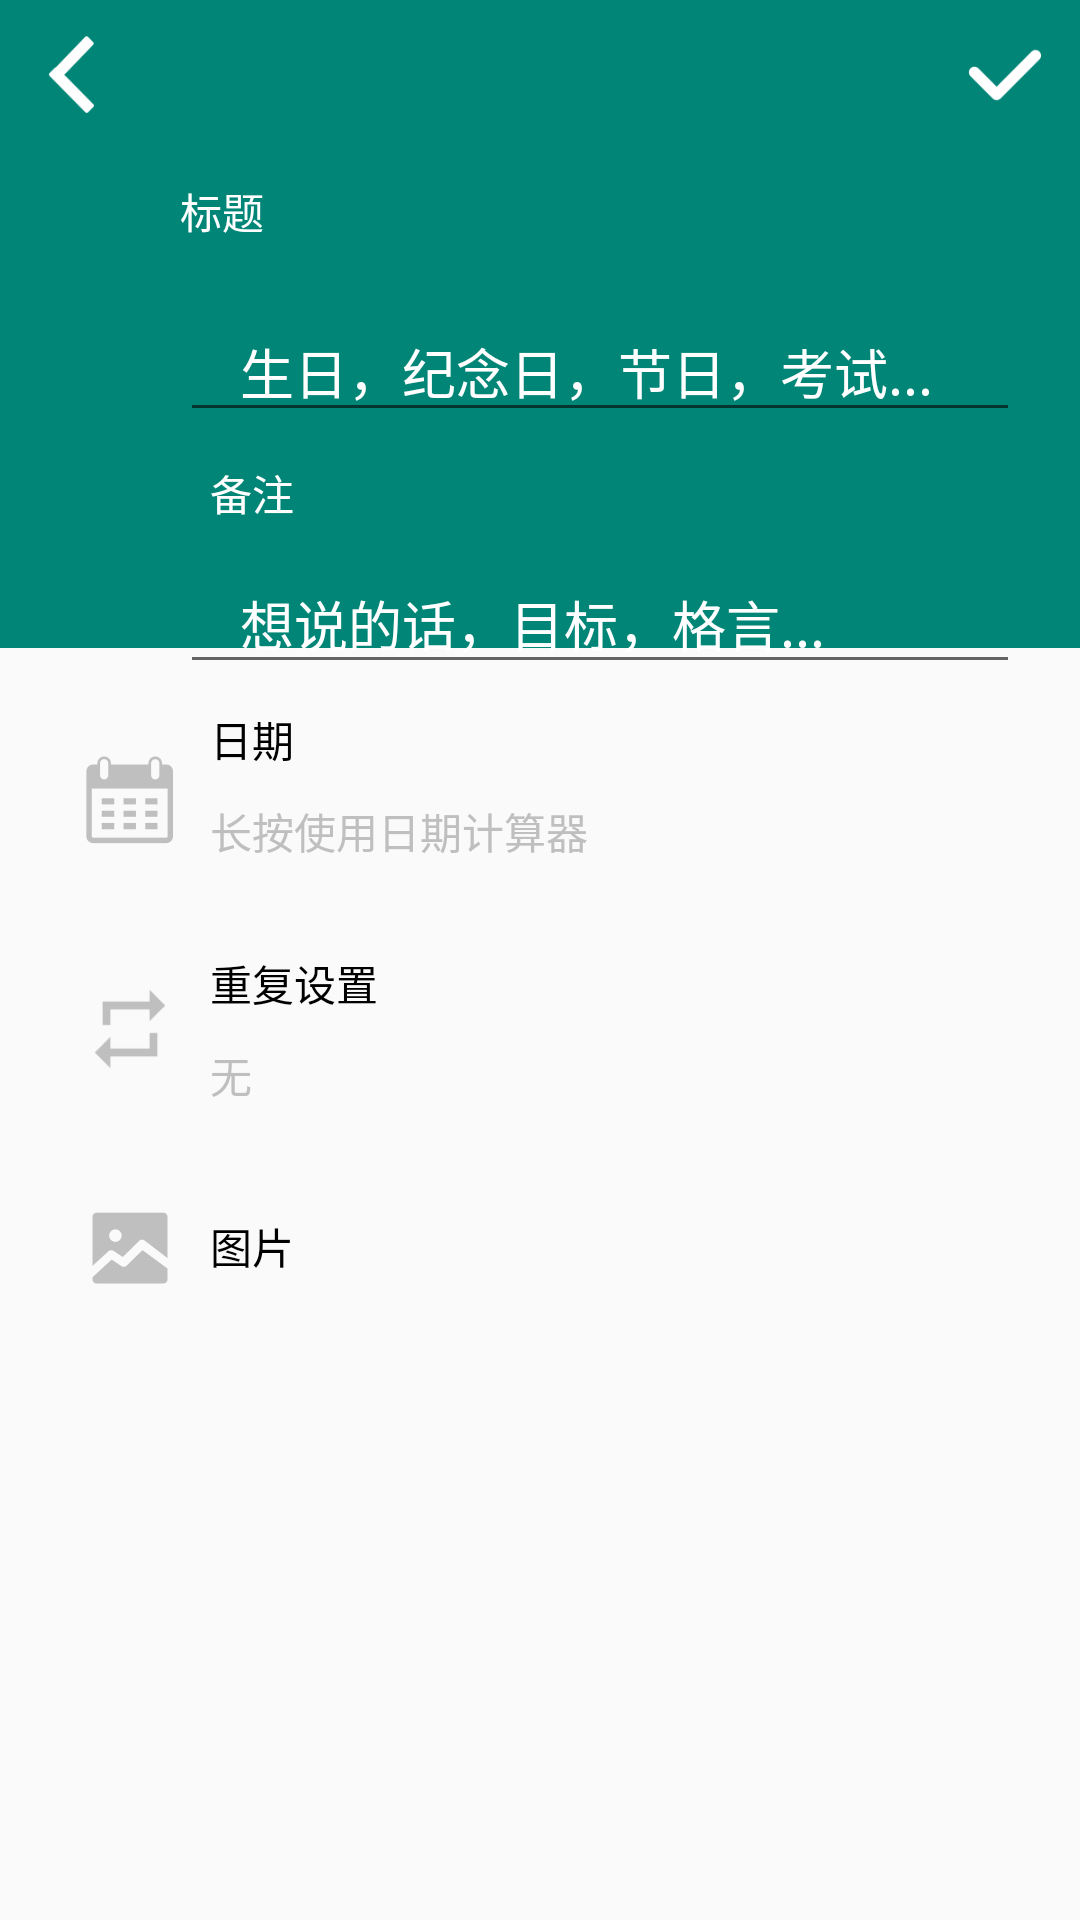

Where icons sit on this 1080px x 1920px app screen, as (x1,y1,x2,y2):
back: (49,36,94,113)
confirm: (969,49,1041,101)
date: (86,756,173,843)
repeat: (95,991,165,1067)
